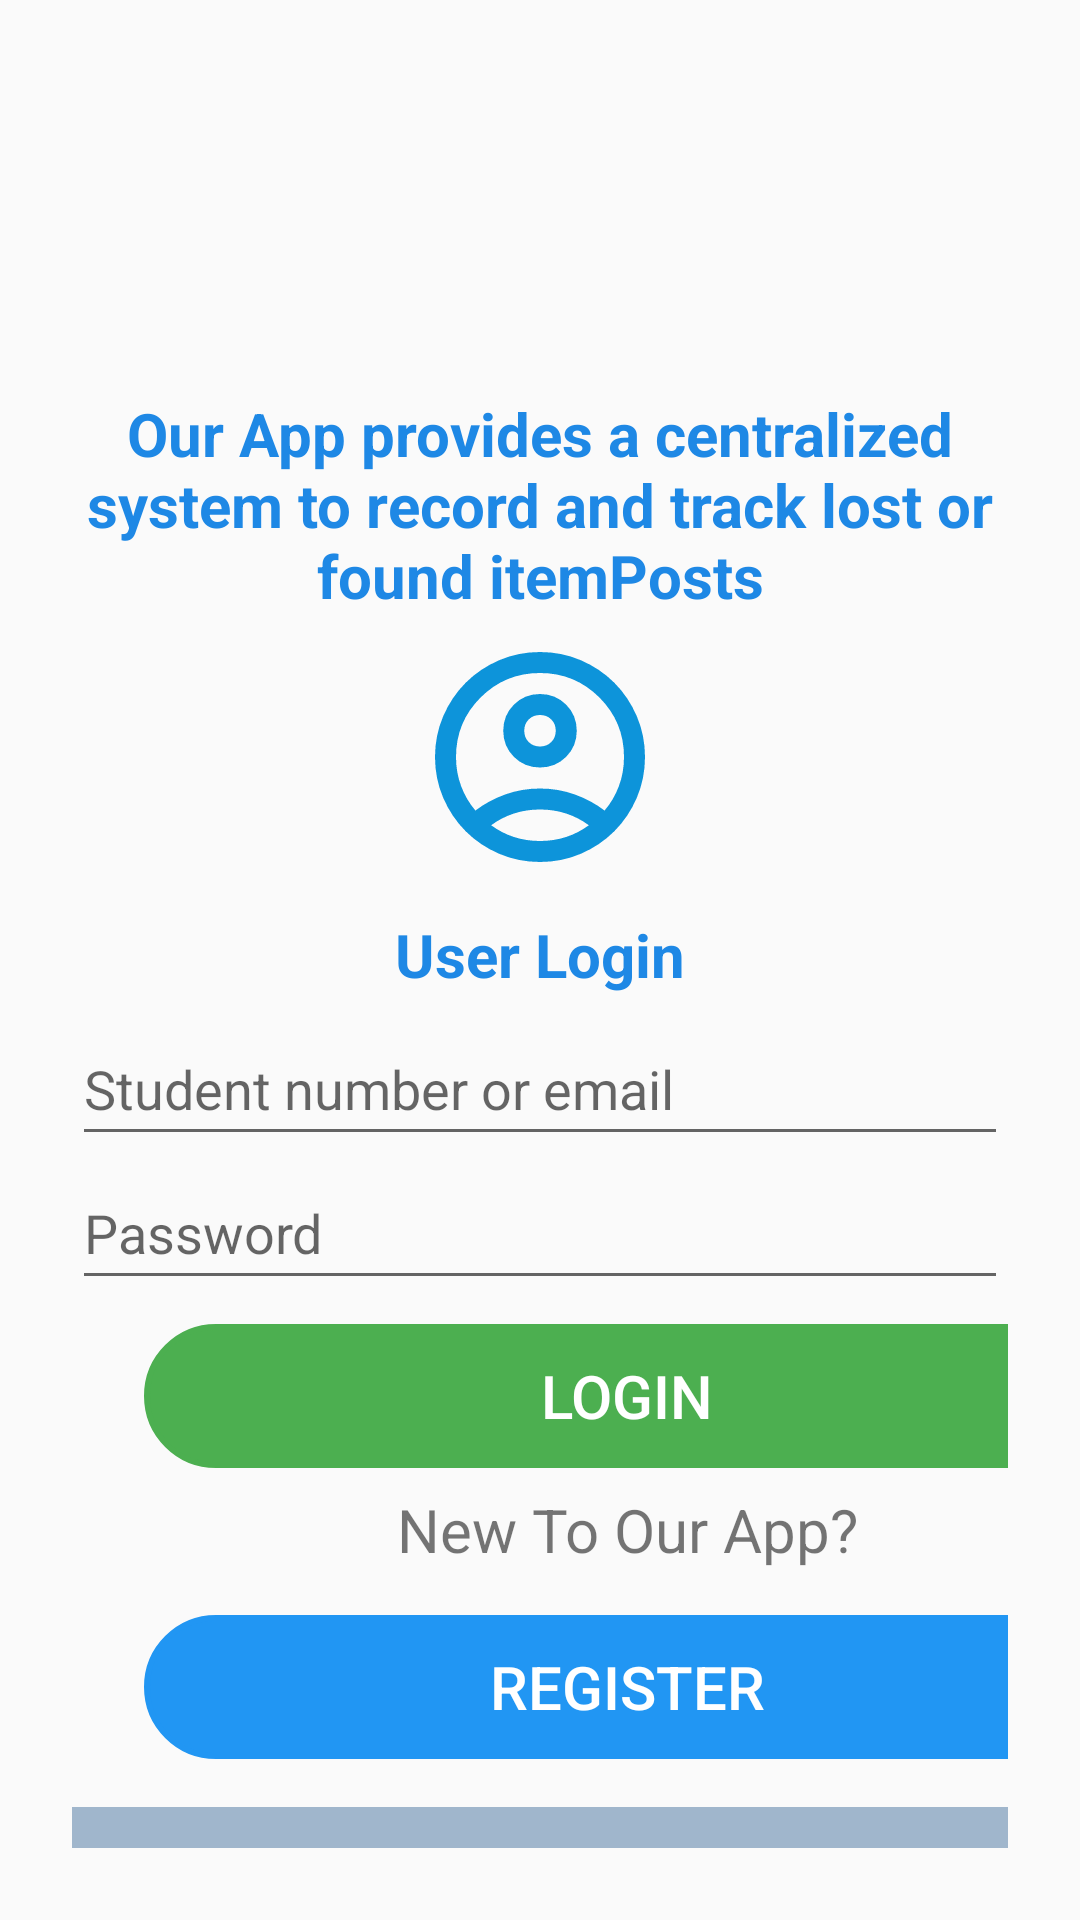

Screen size 1080*1920. Icon name, then its center in pixels as (x=x, y=y):
account: (x=540, y=757)
